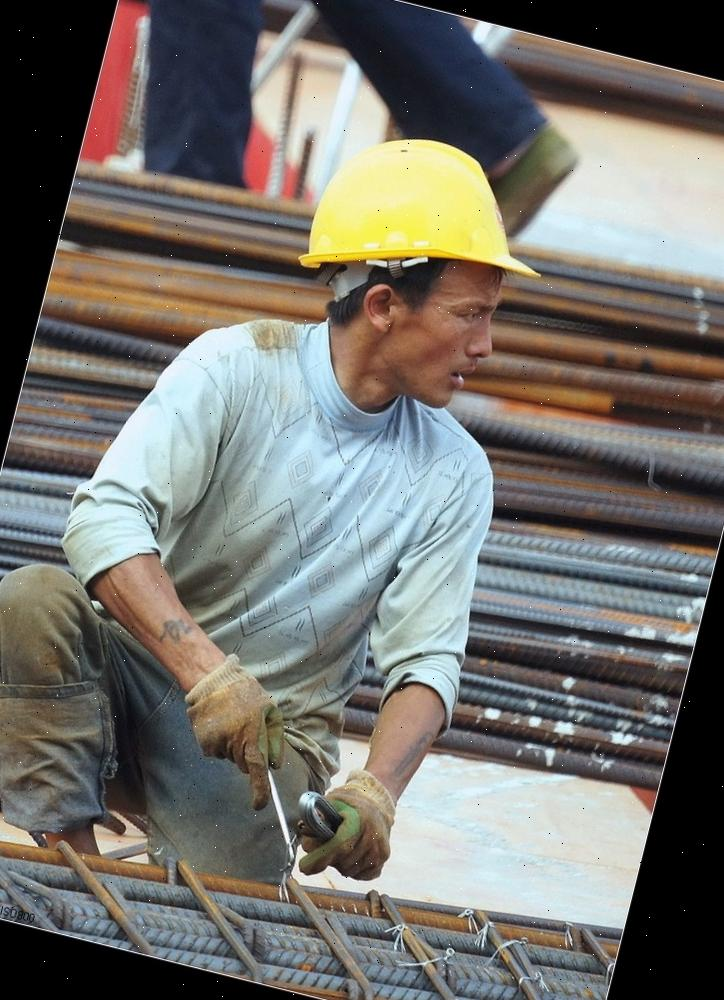helmet: (290, 114, 544, 330)
no_wear: (16, 310, 497, 812)
